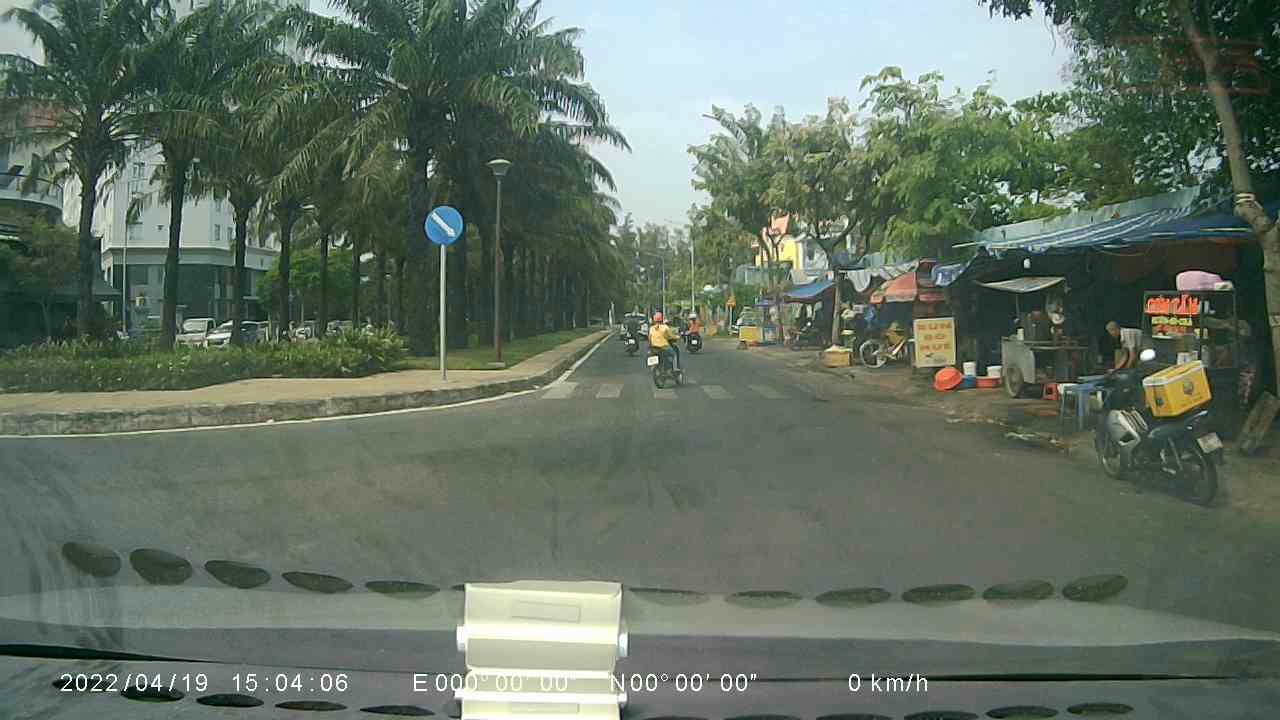Huong di phai re phai: (424, 203, 464, 244)
